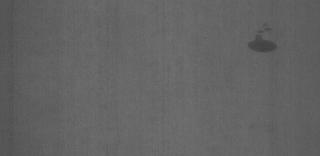oil spot: (243, 23, 285, 57)
